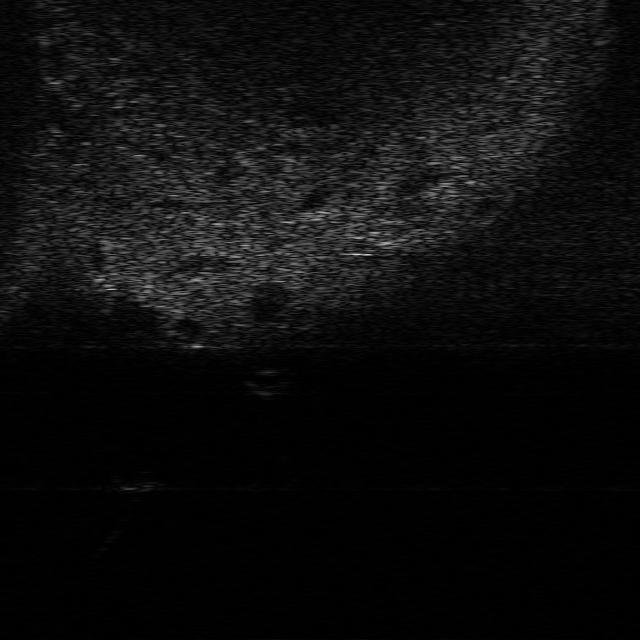ball: (242, 369, 296, 400)
cube: (111, 471, 162, 494)
